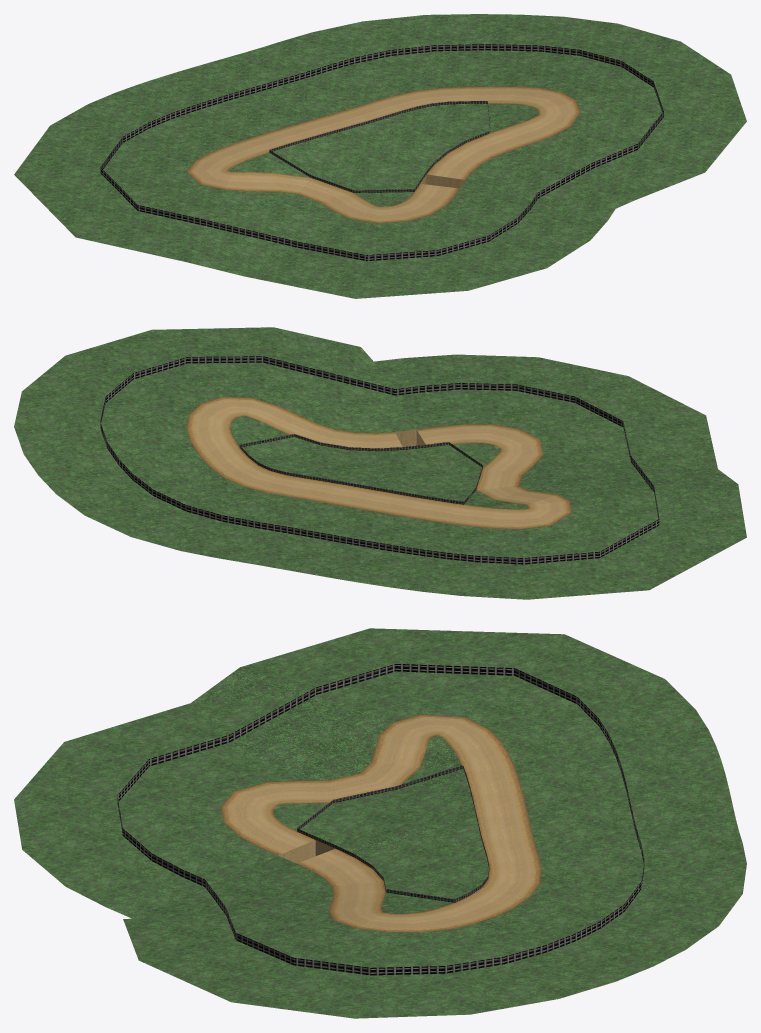
3 renders of one model, top to bottom at view 1: azimuth 30°, elevation 25°; view 2: azimuth 150°, elevation 25°; view 3: azimuth 270°, elevation 25°, orthographic. The views are drawn at different scales.
Visible parts, largest first — view 1: sfcdp3_road_alb.001, sfcdp3_road_alb.003, sfcdp3_road_alb.002; view 2: sfcdp3_road_alb.001, sfcdp3_road_alb.003, sfcdp3_road_alb.002; view 3: sfcdp3_road_alb.001, sfcdp3_road_alb.003, sfcdp3_road_alb.002.
Part boxes in pixels (x1,y1,x2,y2): sfcdp3_road_alb.001: (14, 14, 746, 298); sfcdp3_road_alb.003: (186, 86, 580, 223); sfcdp3_road_alb.002: (100, 44, 663, 261); sfcdp3_road_alb.001: (14, 327, 746, 599); sfcdp3_road_alb.003: (186, 397, 571, 529); sfcdp3_road_alb.002: (100, 356, 659, 564); sfcdp3_road_alb.001: (14, 628, 746, 1018); sfcdp3_road_alb.003: (221, 714, 541, 932); sfcdp3_road_alb.002: (117, 664, 644, 975).
Bounding box in the file's own units: 56451 × 6047 × 43567.
Materials: 3 (3 with a texture image).
